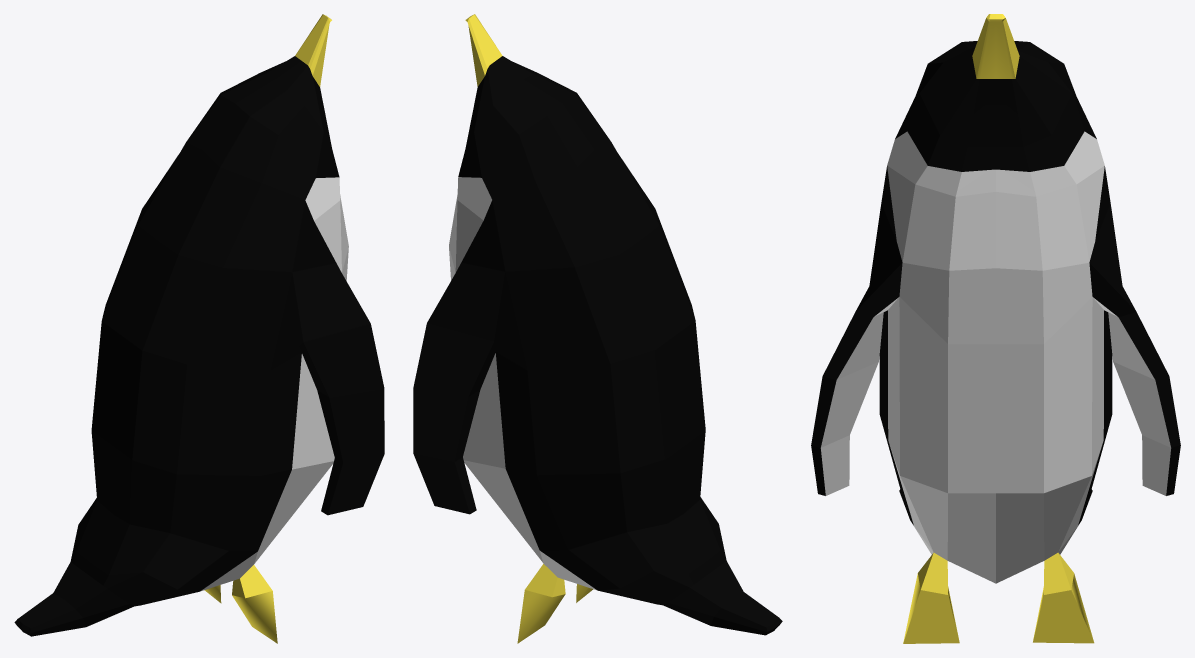
File: Penguin.fbx
3 renders of one model, left to right at view 1: azimuth 30°, elevation 25°; view 2: azimuth 150°, elevation 25°; view 3: azimuth 270°, elevation 25°, orthographic. The views are drawn at different scales.
Visible parts, largest first — view 1: Penguin, Penguin.003, Penguin.001; view 2: Penguin, Penguin.004, Penguin.002; view 3: Penguin, Penguin.004, Penguin.003, Penguin.002, Penguin.001.
Part boxes in pixels (bbox=[...]): Penguin: bbox=[14, 14, 348, 636]; Penguin.003: bbox=[292, 263, 384, 515]; Penguin.001: bbox=[232, 565, 277, 643]; Penguin: bbox=[449, 14, 782, 635]; Penguin.004: bbox=[413, 262, 505, 514]; Penguin.002: bbox=[517, 564, 565, 643]; Penguin: bbox=[874, 14, 1117, 583]; Penguin.004: bbox=[1089, 203, 1180, 495]; Penguin.003: bbox=[811, 203, 902, 495]; Penguin.002: bbox=[1033, 552, 1094, 643]; Penguin.001: bbox=[903, 552, 959, 643].
Size of the model in its own units: 34.6 by 61.83 by 30.46.
